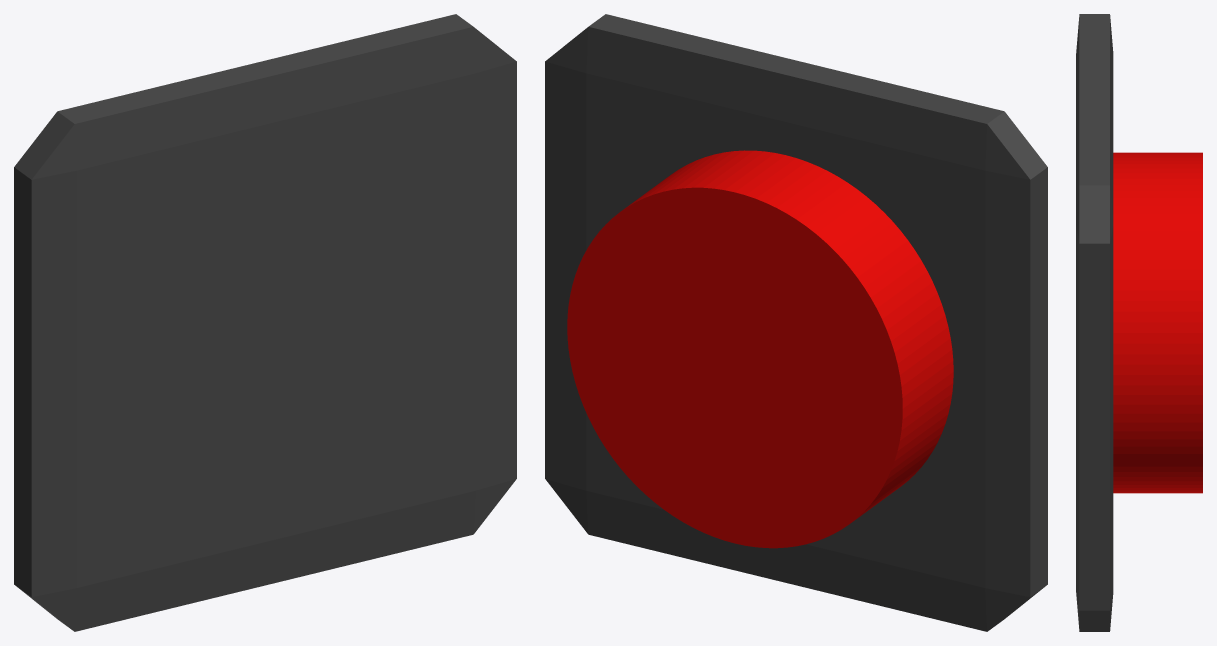
File: Button.fbx
The picture shows the model from 3 angles, left to right: view 1: azimuth 30°, elevation 25°; view 2: azimuth 150°, elevation 25°; view 3: azimuth 270°, elevation 25°; orthographic projection. The views are drawn at different scales.
Visible parts, largest first — view 1: Button; view 2: Button; view 3: Button.
Boxes of the visible parts, <box> form: Button: <box>14,14,516,631</box>; Button: <box>545,14,1047,631</box>; Button: <box>1076,14,1202,631</box>.
Size of the model in its own units: 132 by 132 by 33.91.
